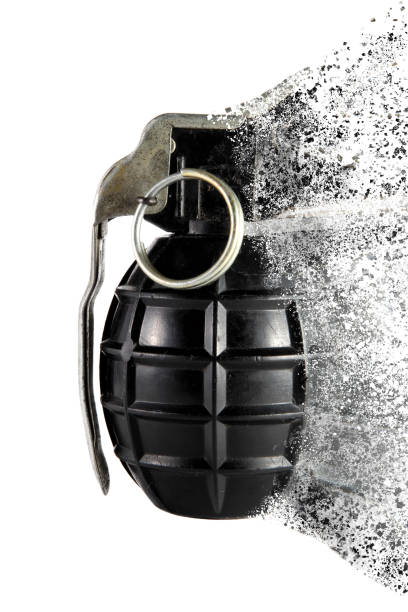e1: (75, 112, 319, 524)
